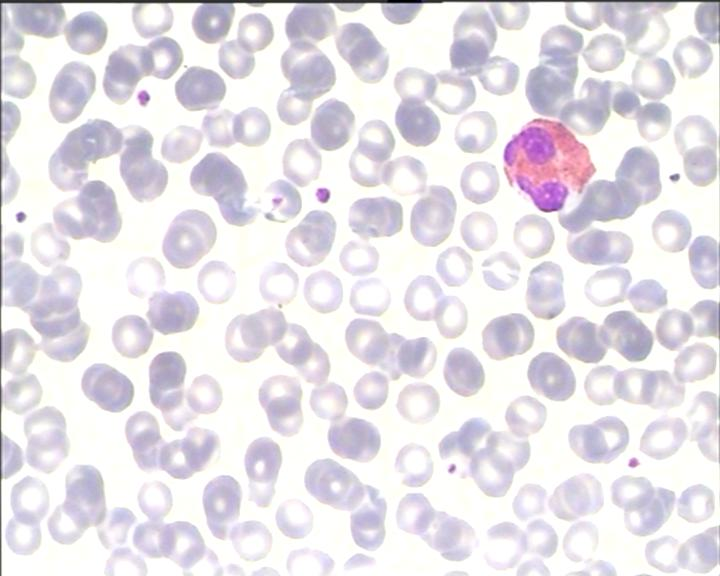eosi: (496, 110, 601, 216)
